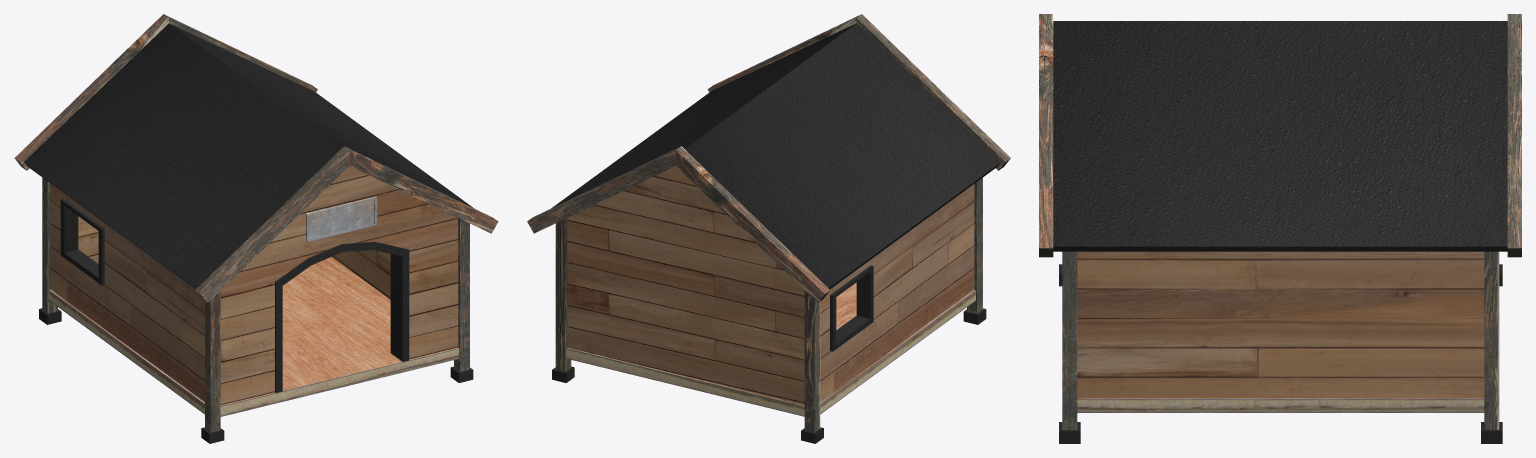
File: dog_house.glb
3 views of the same model, side by side, from view 1: azimuth 30°, elevation 25°; view 2: azimuth 150°, elevation 25°; view 3: azimuth 270°, elevation 25° (orthographic). The views are drawn at different scales.
Visible parts, largest first — view 1: polySurface27, polySurface12, polySurface13, polySurface8, pCube22, polySurface28, pCube29, polySurface7, pCube26, polySurface29; view 2: polySurface12, polySurface27, polySurface8, polySurface13, polySurface29, polySurface22, pCube26, polySurface28; view 3: polySurface8, polySurface12, polySurface13, polySurface22, polySurface7.
Part boxes in pixels (x1=…): polySurface27: x1=14, y1=14, x2=349, y2=302; polySurface12: x1=51, y1=166, x2=458, y2=405; polySurface13: x1=49, y1=257, x2=459, y2=416; polySurface8: x1=164, y1=14, x2=498, y2=233; pCube22: x1=275, y1=241, x2=409, y2=392; polySurface28: x1=201, y1=291, x2=224, y2=443; pCube29: x1=306, y1=196, x2=377, y2=241; polySurface7: x1=450, y1=218, x2=473, y2=382; pCube26: x1=60, y1=199, x2=104, y2=285; polySurface29: x1=39, y1=177, x2=61, y2=324; polySurface12: x1=567, y1=166, x2=974, y2=405; polySurface27: x1=676, y1=14, x2=1010, y2=302; polySurface8: x1=527, y1=14, x2=860, y2=233; polySurface13: x1=566, y1=282, x2=975, y2=416; polySurface29: x1=801, y1=290, x2=823, y2=443; polySurface22: x1=552, y1=218, x2=574, y2=382; pCube26: x1=830, y1=265, x2=873, y2=351; polySurface28: x1=963, y1=177, x2=986, y2=324; polySurface8: x1=1039, y1=14, x2=1521, y2=257; polySurface12: x1=1077, y1=251, x2=1484, y2=398; polySurface13: x1=1077, y1=398, x2=1484, y2=412; polySurface22: x1=1481, y1=251, x2=1502, y2=443; polySurface7: x1=1059, y1=251, x2=1080, y2=443.
Size of the model in its own units: 3.33 by 2.85 by 3.6.
6 materials, 6 textured.
